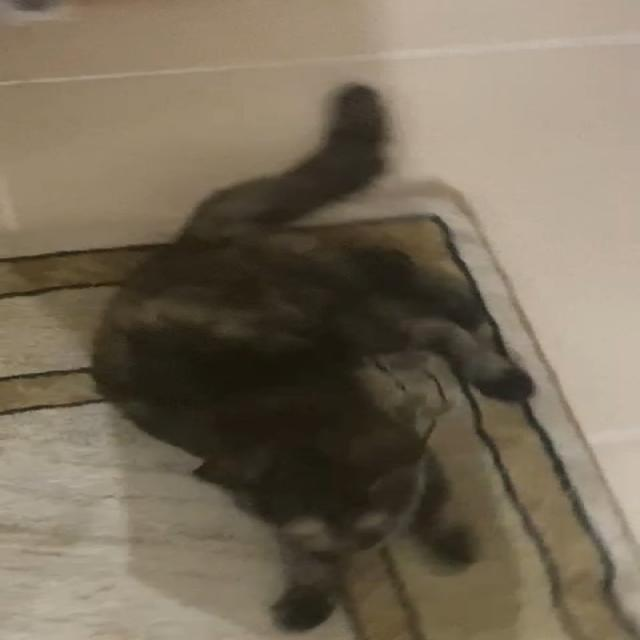authorized: (85, 81, 636, 638)
